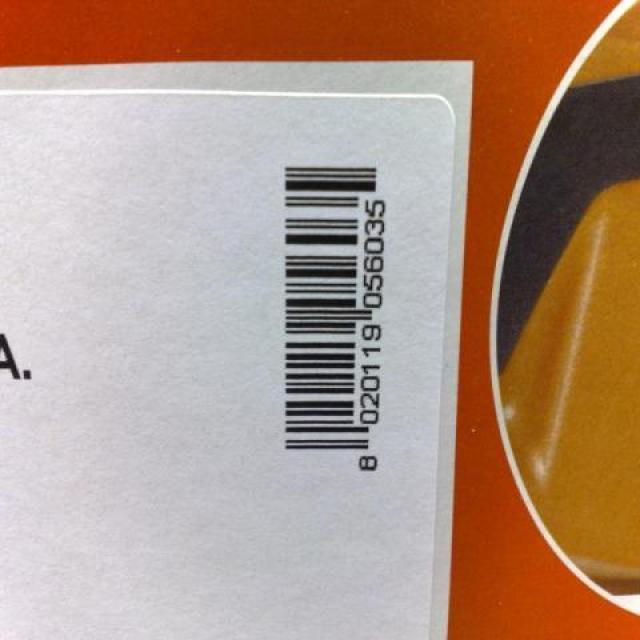Barcode: (265, 140, 406, 503)
